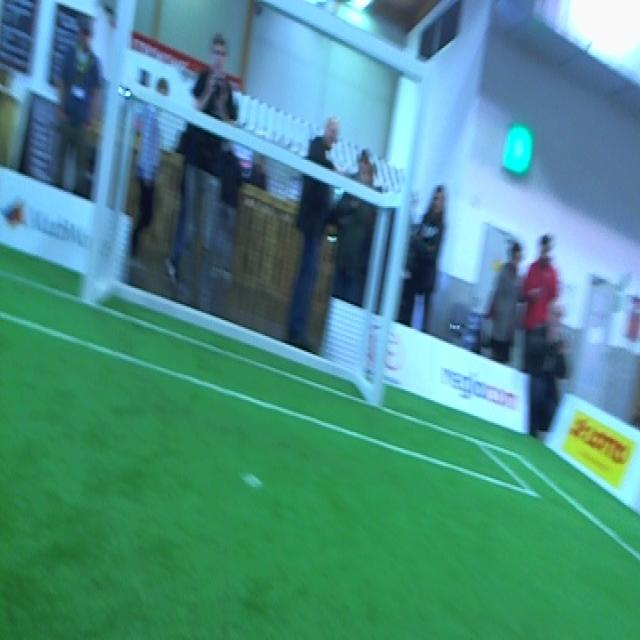goalpost: (370, 57, 435, 405), (82, 3, 137, 310)
